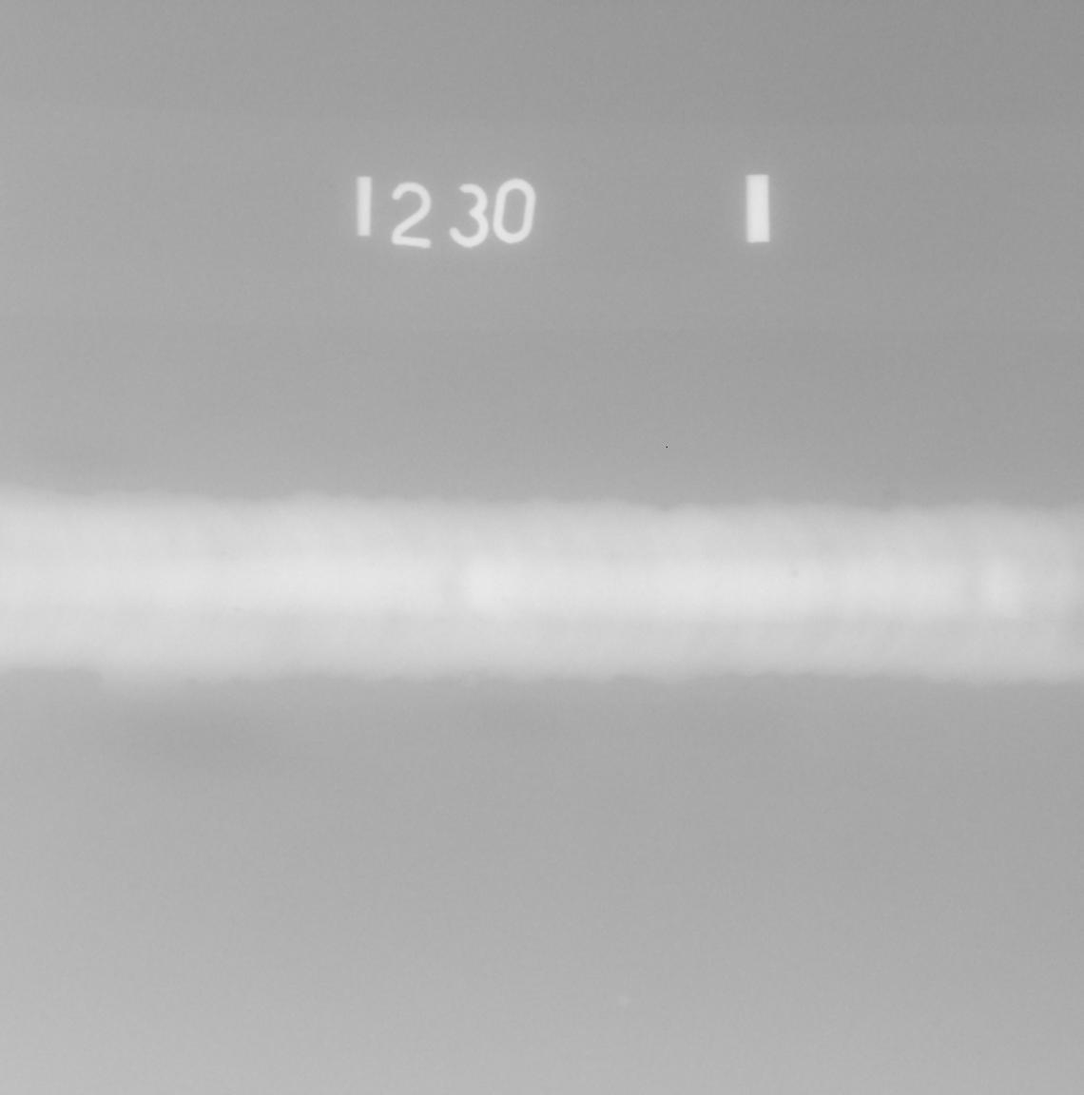Inclusion: (715, 576, 723, 586)
Pore/Porosity: (399, 586, 407, 591), (792, 571, 798, 577), (501, 598, 507, 603), (369, 562, 374, 567), (380, 596, 386, 600), (1050, 594, 1055, 598), (222, 552, 226, 556), (234, 609, 239, 612), (171, 540, 174, 545), (904, 582, 907, 586), (231, 558, 234, 561)
